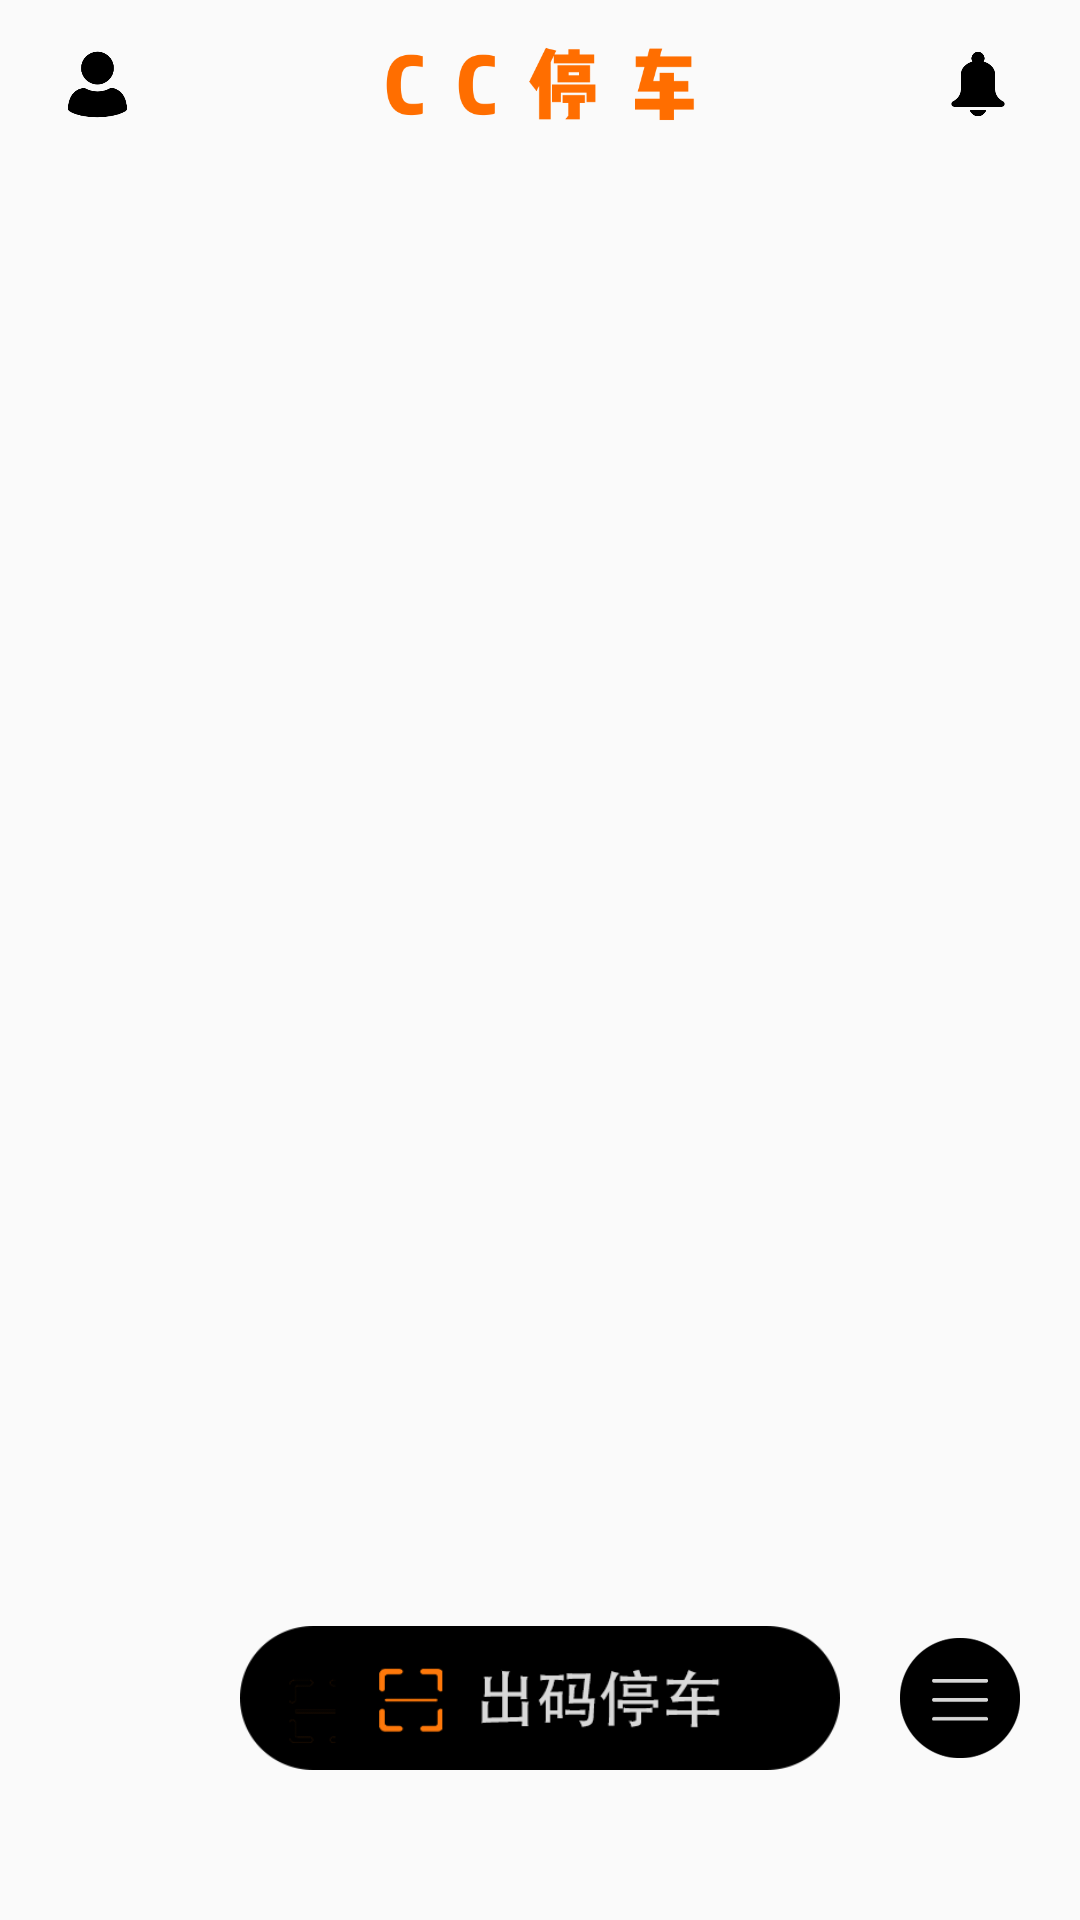

Where icons sit on this 1080 x 1920 app screen, as (x1, y1, x2, y2):
accounts: (68, 51, 127, 118)
bells: (951, 52, 1005, 116)
